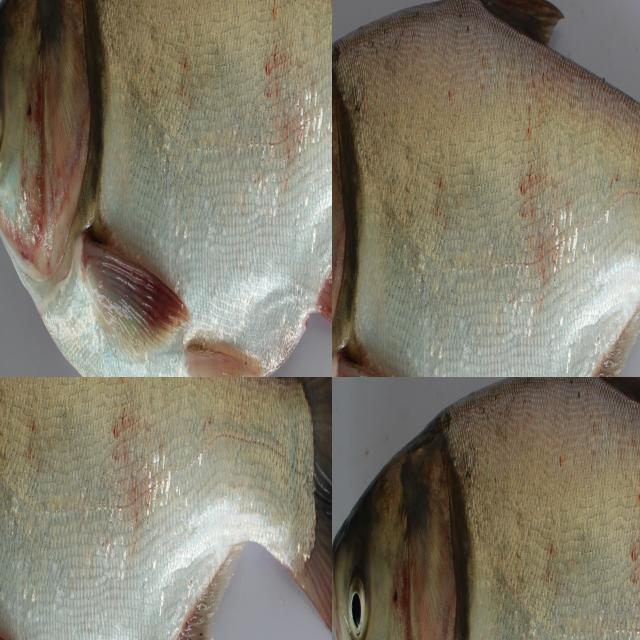fish: (0, 0, 332, 377), (332, 377, 640, 640)
